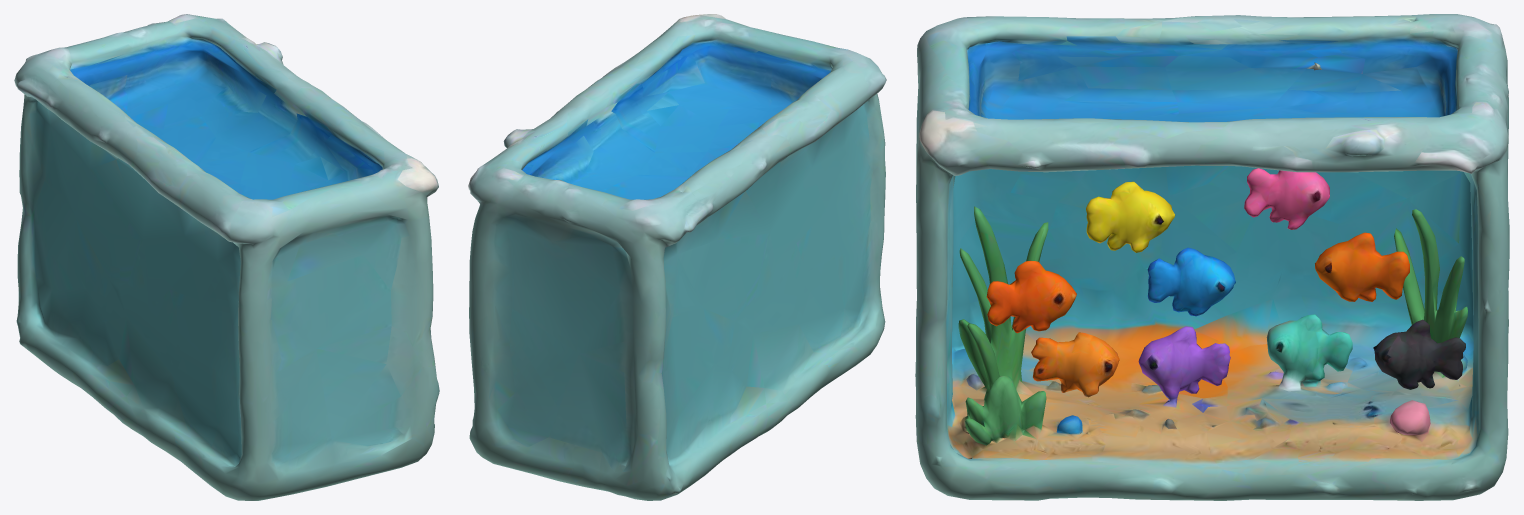
File: keepsake-fish-tank.glb
3 views of the same model, side by side, from view 1: azimuth 30°, elevation 25°; view 2: azimuth 150°, elevation 25°; view 3: azimuth 270°, elevation 25° (orthographic). The views are drawn at different scales.
Parts seen in each view (by area): view 1: tripo_node_e0dc78ac-d8d6-46ff-b27c-79698349898b; view 2: tripo_node_e0dc78ac-d8d6-46ff-b27c-79698349898b; view 3: tripo_node_e0dc78ac-d8d6-46ff-b27c-79698349898b.
Part boxes in pixels (bbox=[...]): tripo_node_e0dc78ac-d8d6-46ff-b27c-79698349898b: bbox=[14, 14, 439, 500]; tripo_node_e0dc78ac-d8d6-46ff-b27c-79698349898b: bbox=[468, 14, 886, 500]; tripo_node_e0dc78ac-d8d6-46ff-b27c-79698349898b: bbox=[915, 14, 1509, 500].
Size of the model in its own units: 0.5364 by 0.6853 by 0.9739.
Materials: 1 (1 with a texture image).
